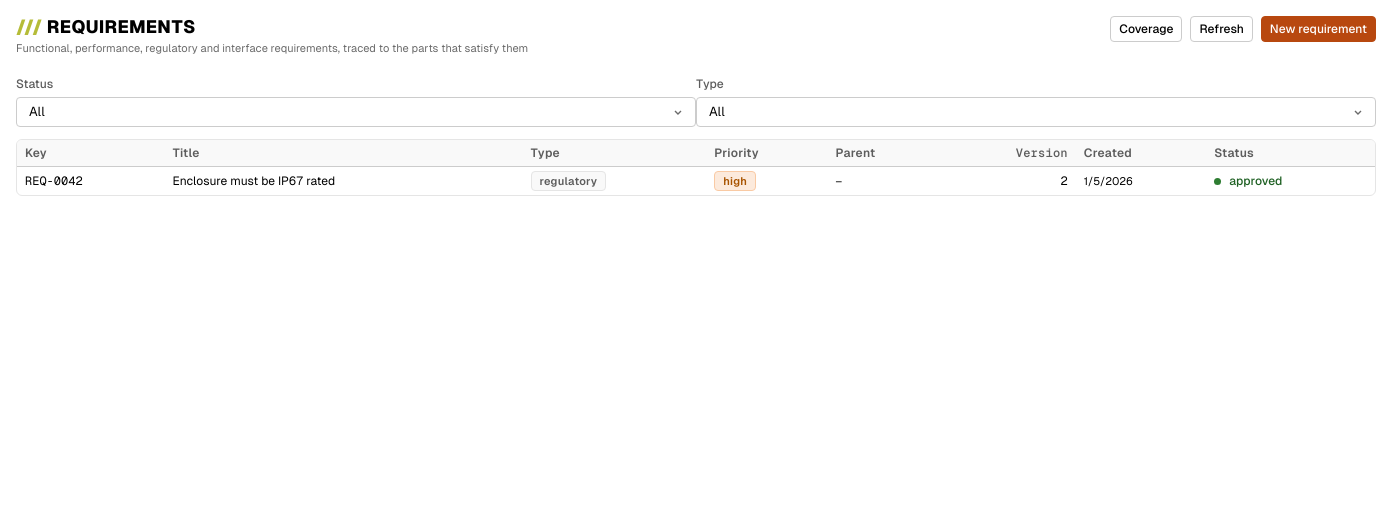
Test: RequirementsScreen › shows an honest 'uncovered' message when a requirement has no linked parts
Click the text "REQ-0042" at coordinates (54, 181), box [25, 174, 83, 188]
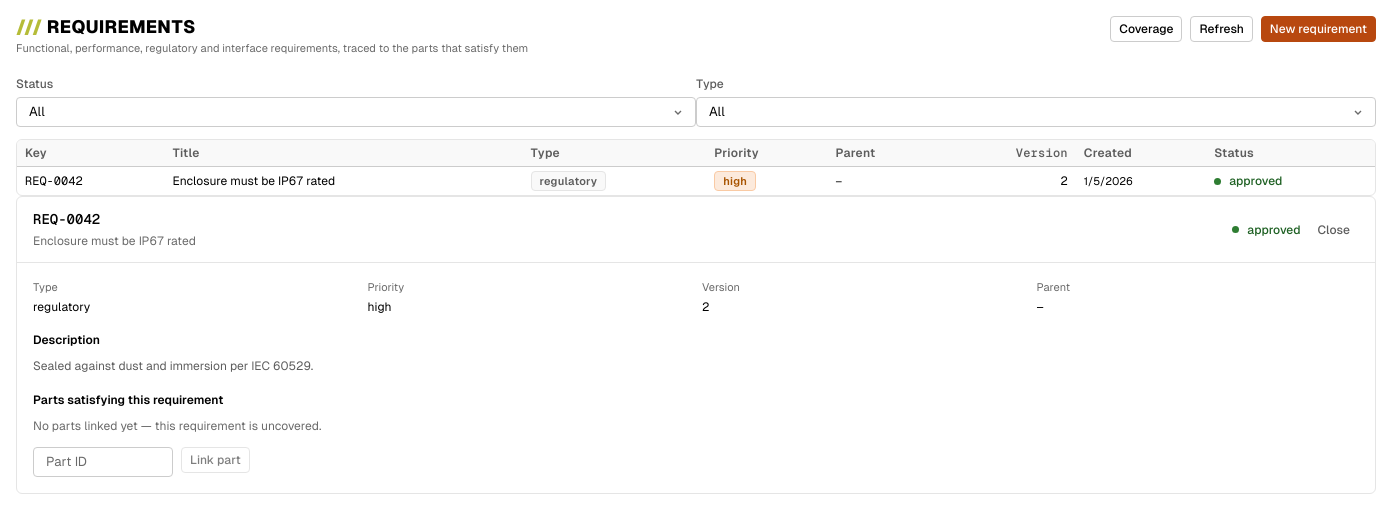
Result: the text "No parts linked yet — this requirement is uncovered." is shown at [33, 419, 321, 433]
